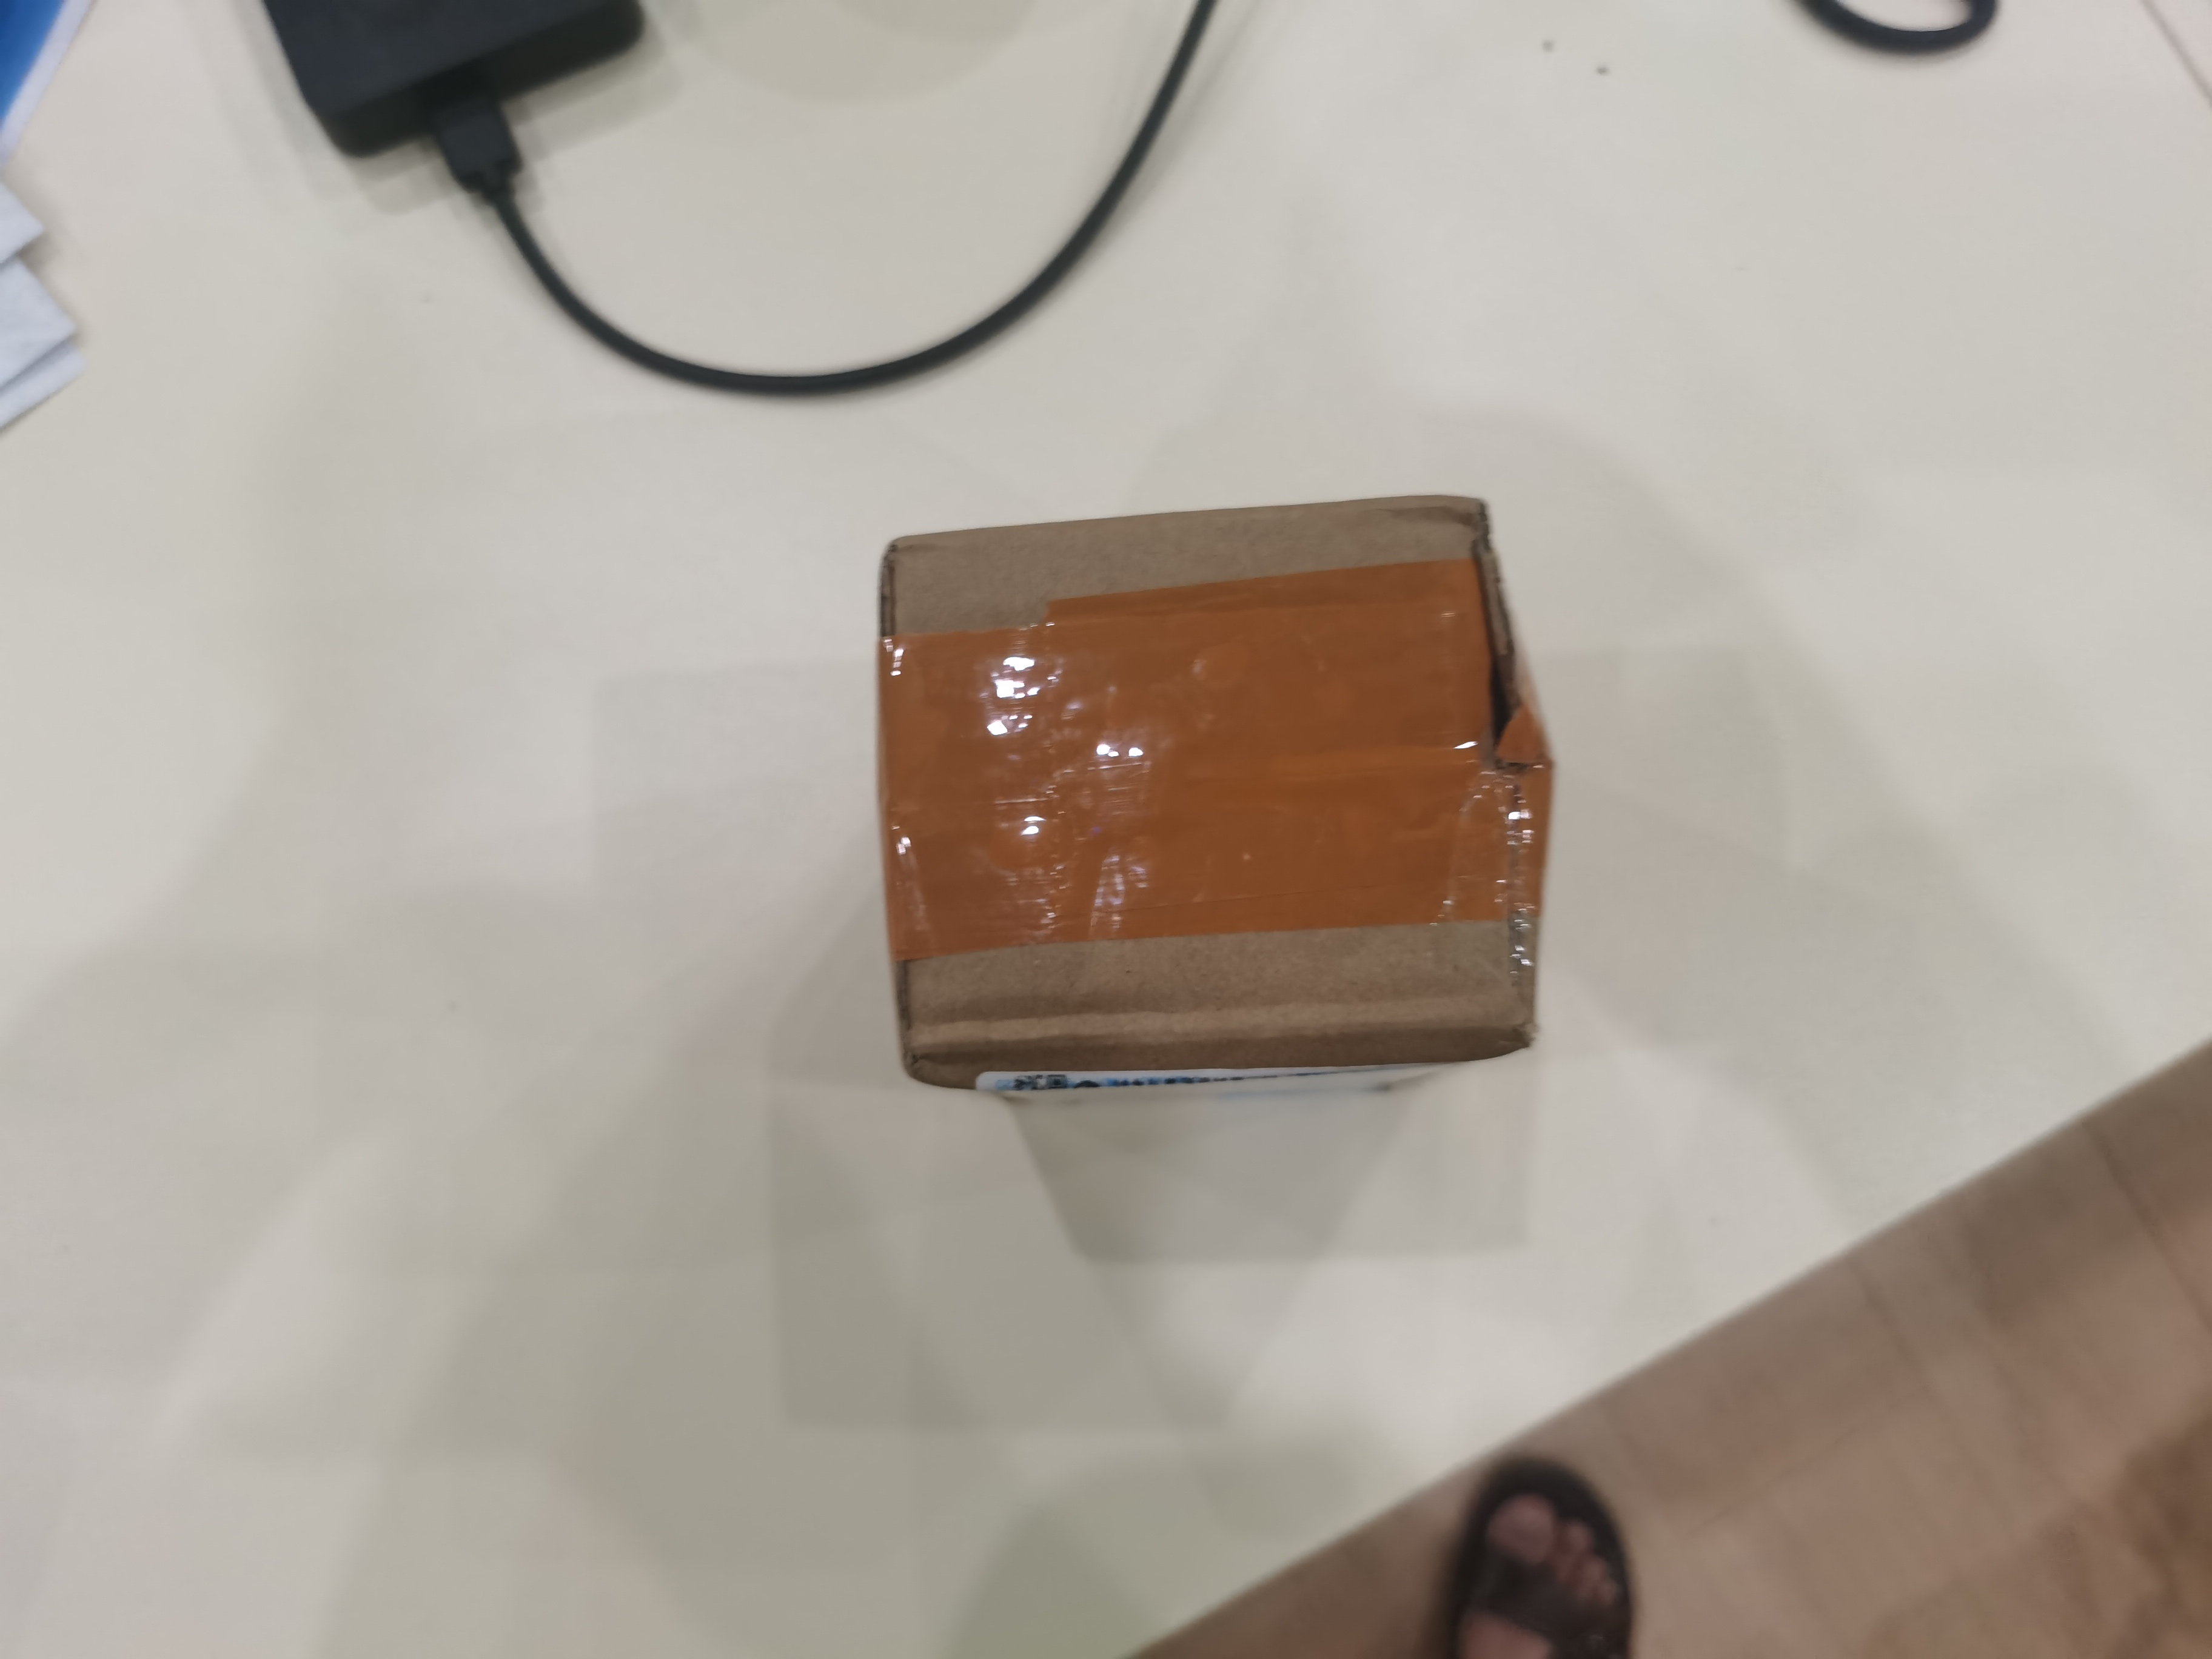box: (834, 504, 1632, 1082)
